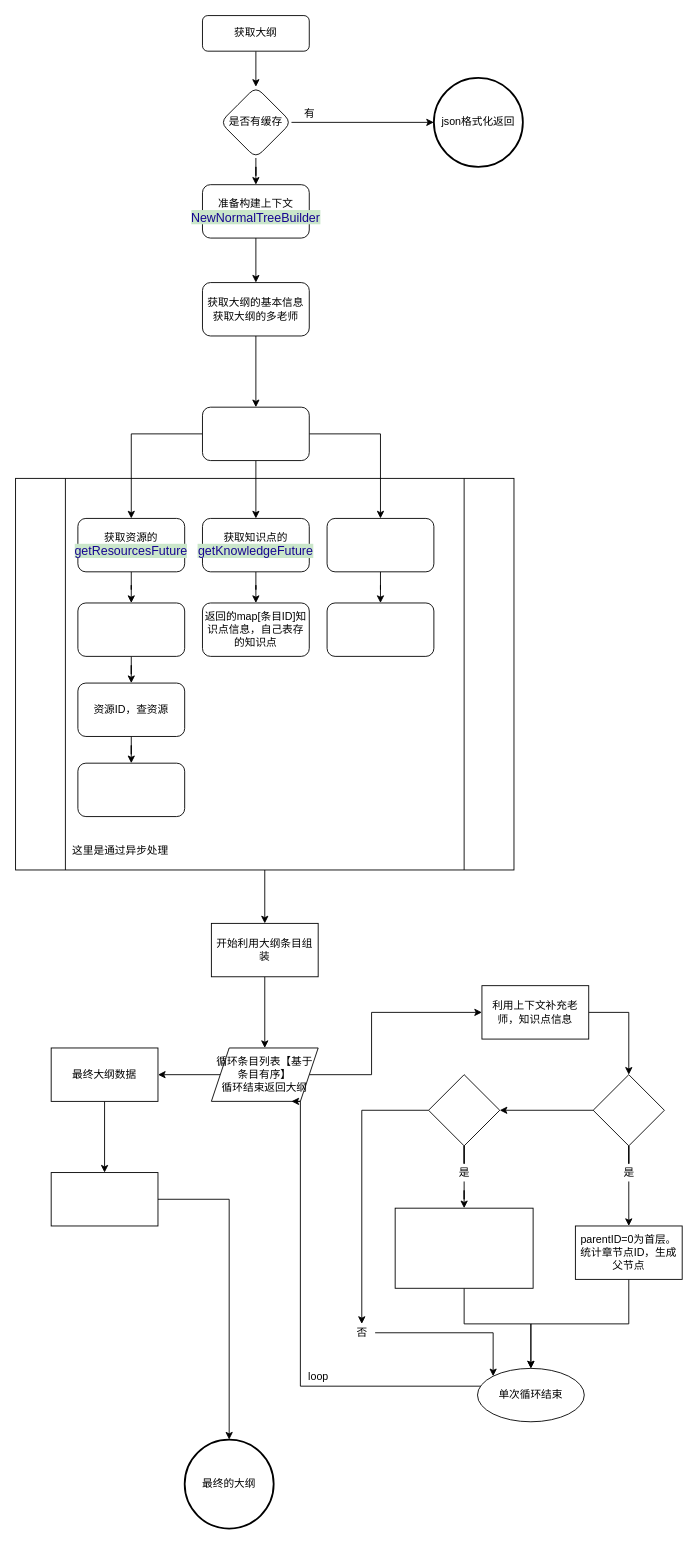
This 698x1545 diagram has some shape labels left out. The shapes that lost their labels are listed below. From the top down, each one's centre as x and y in pixels, then its label:
the point at 255,433: 利用caen补充多老师信息
the point at 380,545: 获取条目的 getItemsFuture
the point at 131,629: 通过大纲的tagid拉所有的资源ID
the point at 380,629: 返回的条目有序，先父节点后子节点
the point at 131,789: 返回的资源map[资源ID]资源信息
the point at 464,1110: 是否已经有父节点。并且当前节点在父节点内
the point at 628,1110: 是否首层parentID=0？
the point at 104,1199: 放缓存
the point at 463,1247: 子节点处理，部分资源上的信息放条目上， 统计父节点下子节点的个数 挂在父节点上
